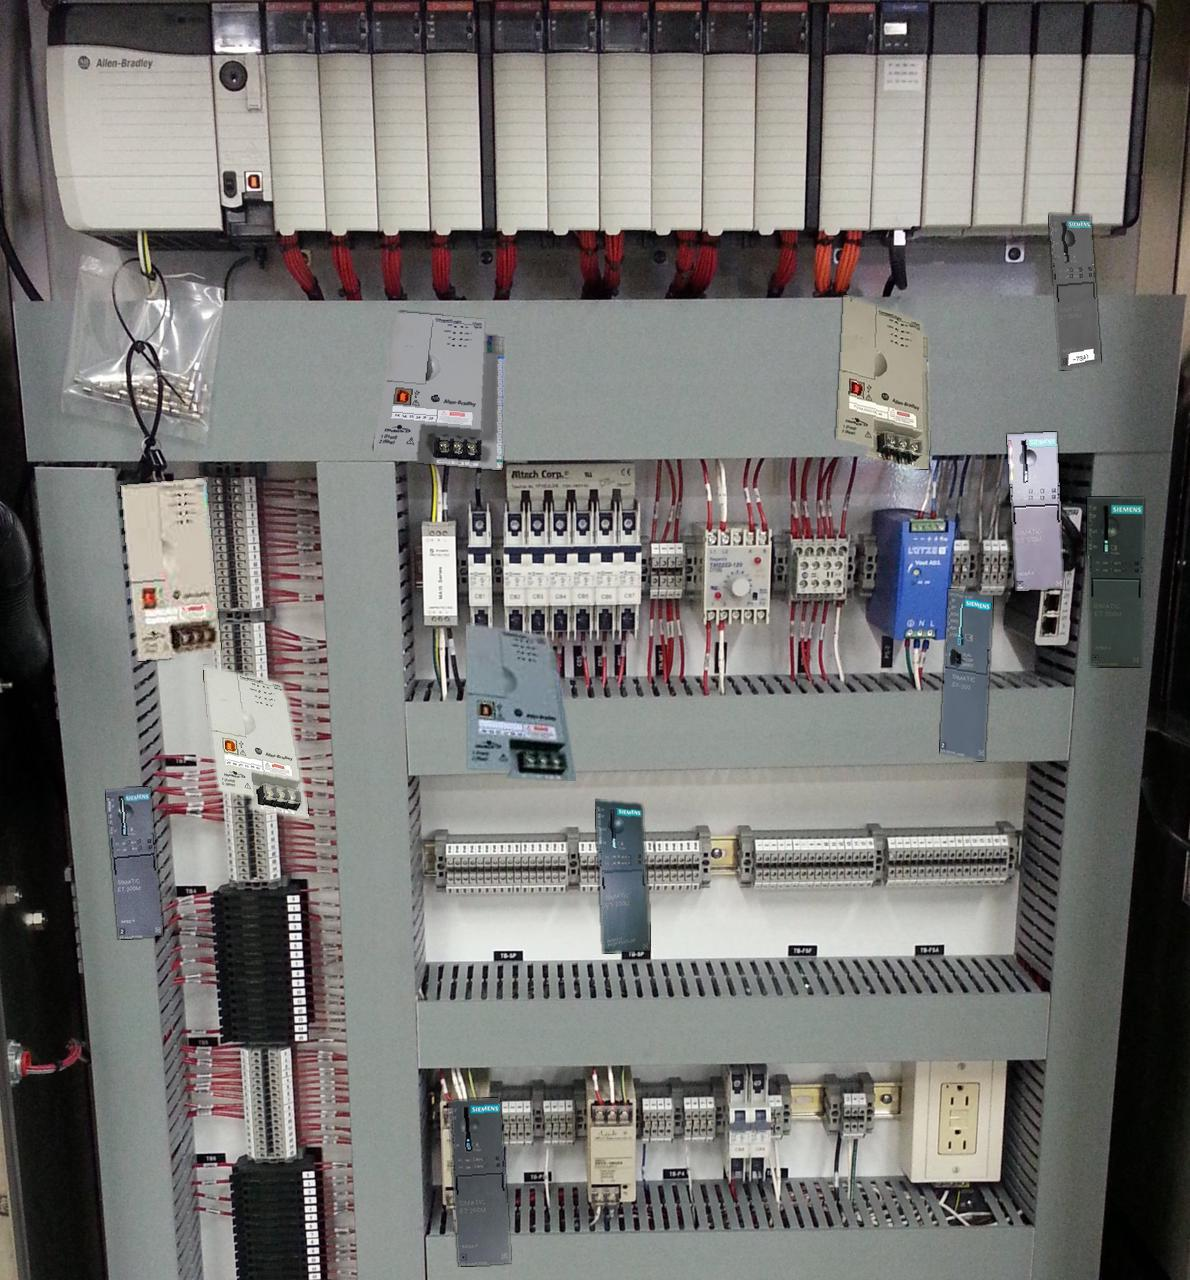AllenBradley: (374, 312, 506, 470), (120, 478, 220, 660), (466, 623, 575, 780), (835, 295, 929, 468), (204, 665, 308, 818)
Siemens: (939, 589, 992, 760)
